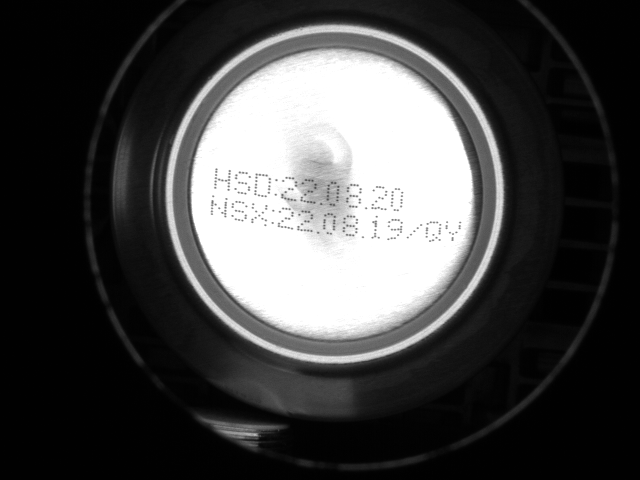/: (401, 218, 426, 242)
0: (391, 185, 410, 213), (325, 178, 341, 209), (319, 211, 338, 234)
1: (366, 216, 384, 241)
2: (296, 173, 320, 204), (368, 183, 392, 213), (277, 175, 300, 204), (272, 204, 295, 229), (297, 207, 315, 232)
8: (343, 180, 365, 209), (340, 214, 364, 239)
9: (386, 215, 405, 242)
D: (253, 170, 275, 196)
H: (210, 166, 234, 191)
N: (204, 193, 229, 219)
Q: (424, 220, 444, 242)
S: (230, 197, 250, 222), (235, 170, 252, 191)
X: (250, 201, 268, 224)
Y: (443, 219, 461, 244)
